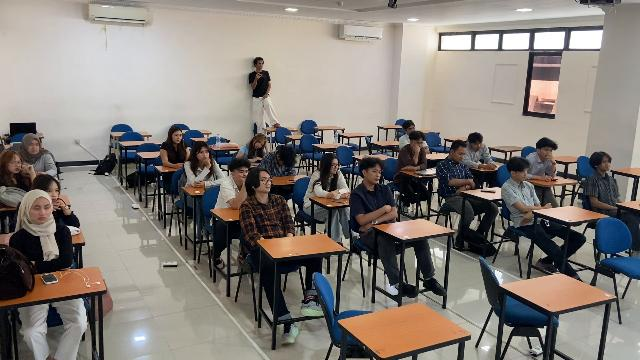bingung: (31, 202, 49, 223), (259, 174, 271, 193), (368, 167, 381, 184), (8, 157, 21, 173), (46, 185, 58, 201), (456, 146, 467, 162), (517, 167, 528, 181), (28, 141, 39, 154), (198, 148, 209, 161), (600, 159, 611, 171), (254, 138, 265, 149), (541, 146, 552, 157), (330, 159, 338, 174), (413, 138, 423, 150), (238, 168, 248, 179), (473, 140, 482, 151), (173, 132, 181, 144), (407, 126, 415, 131)
